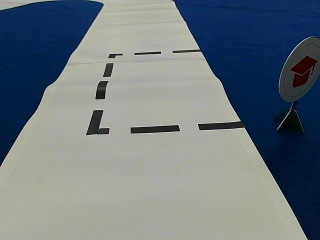school: (279, 36, 318, 101)
